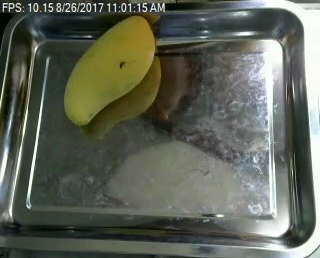Mango: (55, 12, 158, 126)
